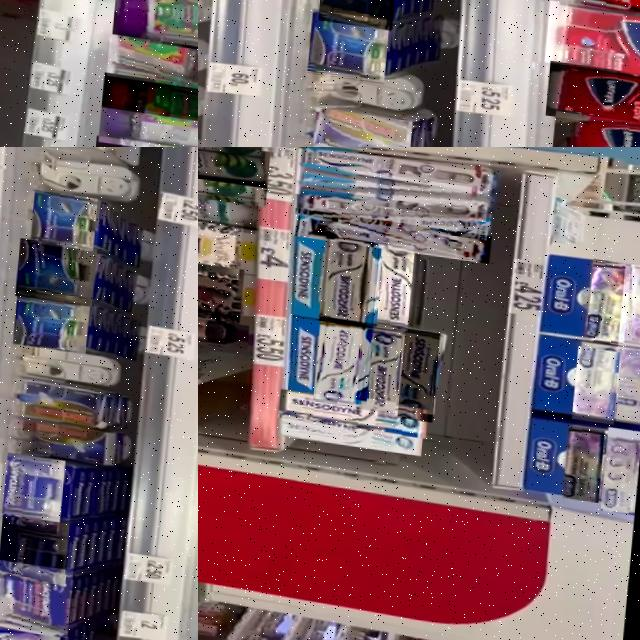Other: (546, 54, 640, 131), (308, 6, 390, 81), (0, 558, 74, 635), (14, 236, 96, 304), (0, 512, 70, 585), (105, 31, 198, 85), (12, 287, 90, 351), (101, 67, 198, 117), (98, 99, 198, 147), (2, 450, 65, 524), (312, 104, 414, 147), (29, 187, 97, 248), (552, 104, 640, 147), (198, 149, 267, 202), (198, 200, 243, 276), (198, 248, 244, 320), (198, 178, 258, 230), (198, 147, 269, 184), (198, 303, 249, 345), (92, 131, 198, 147)
Toothbrush: (294, 157, 489, 213), (293, 203, 491, 256), (298, 181, 491, 233), (297, 147, 488, 189)
Toothpaste: (278, 384, 429, 432), (278, 409, 423, 449), (313, 310, 374, 402), (318, 230, 378, 322), (367, 233, 414, 325), (355, 321, 402, 410), (398, 321, 440, 416), (586, 249, 631, 336), (572, 336, 620, 415), (601, 416, 640, 505), (563, 415, 606, 493), (615, 327, 640, 414), (616, 252, 640, 341)
